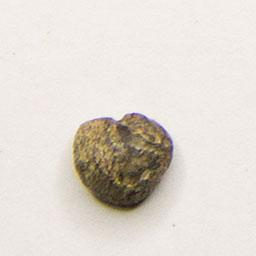defect: (66, 106, 179, 215)
